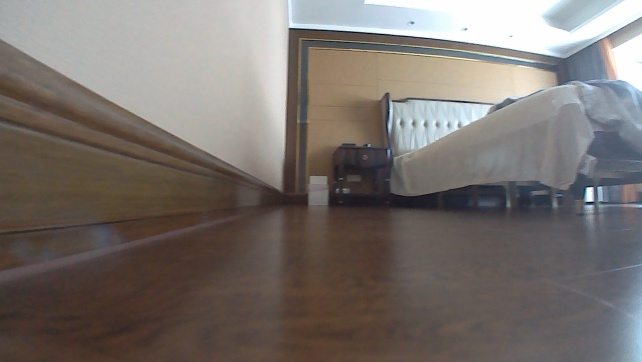bed: (378, 76, 641, 213)
cabinet: (328, 140, 394, 206)
